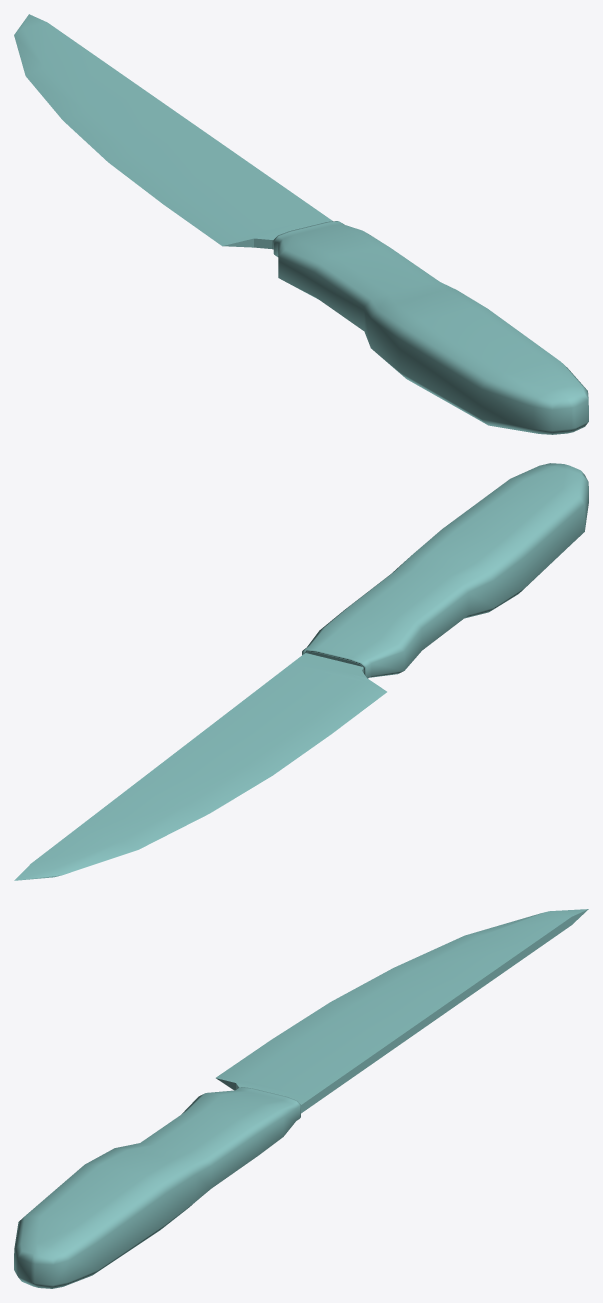
File: fruit knife.fbx
3 views of the same model, one above another, from view 1: azimuth 30°, elevation 25°; view 2: azimuth 150°, elevation 25°; view 3: azimuth 330°, elevation 25° (orthographic). The views are drawn at different scales.
Parts seen in each view (by area): view 1: pCube191; view 2: pCube191; view 3: pCube191.
Boxes of the visible parts, x1,y1,x2,y2 form: pCube191: (14, 14, 588, 434); pCube191: (14, 463, 588, 880); pCube191: (14, 909, 588, 1288).
Bounding box in the file's own units: 0.0503 × 0.025 × 0.4505.
